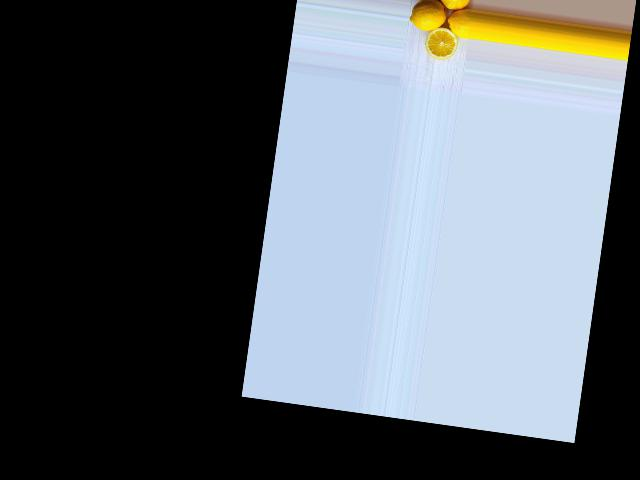lemon: (445, 8, 472, 38)
